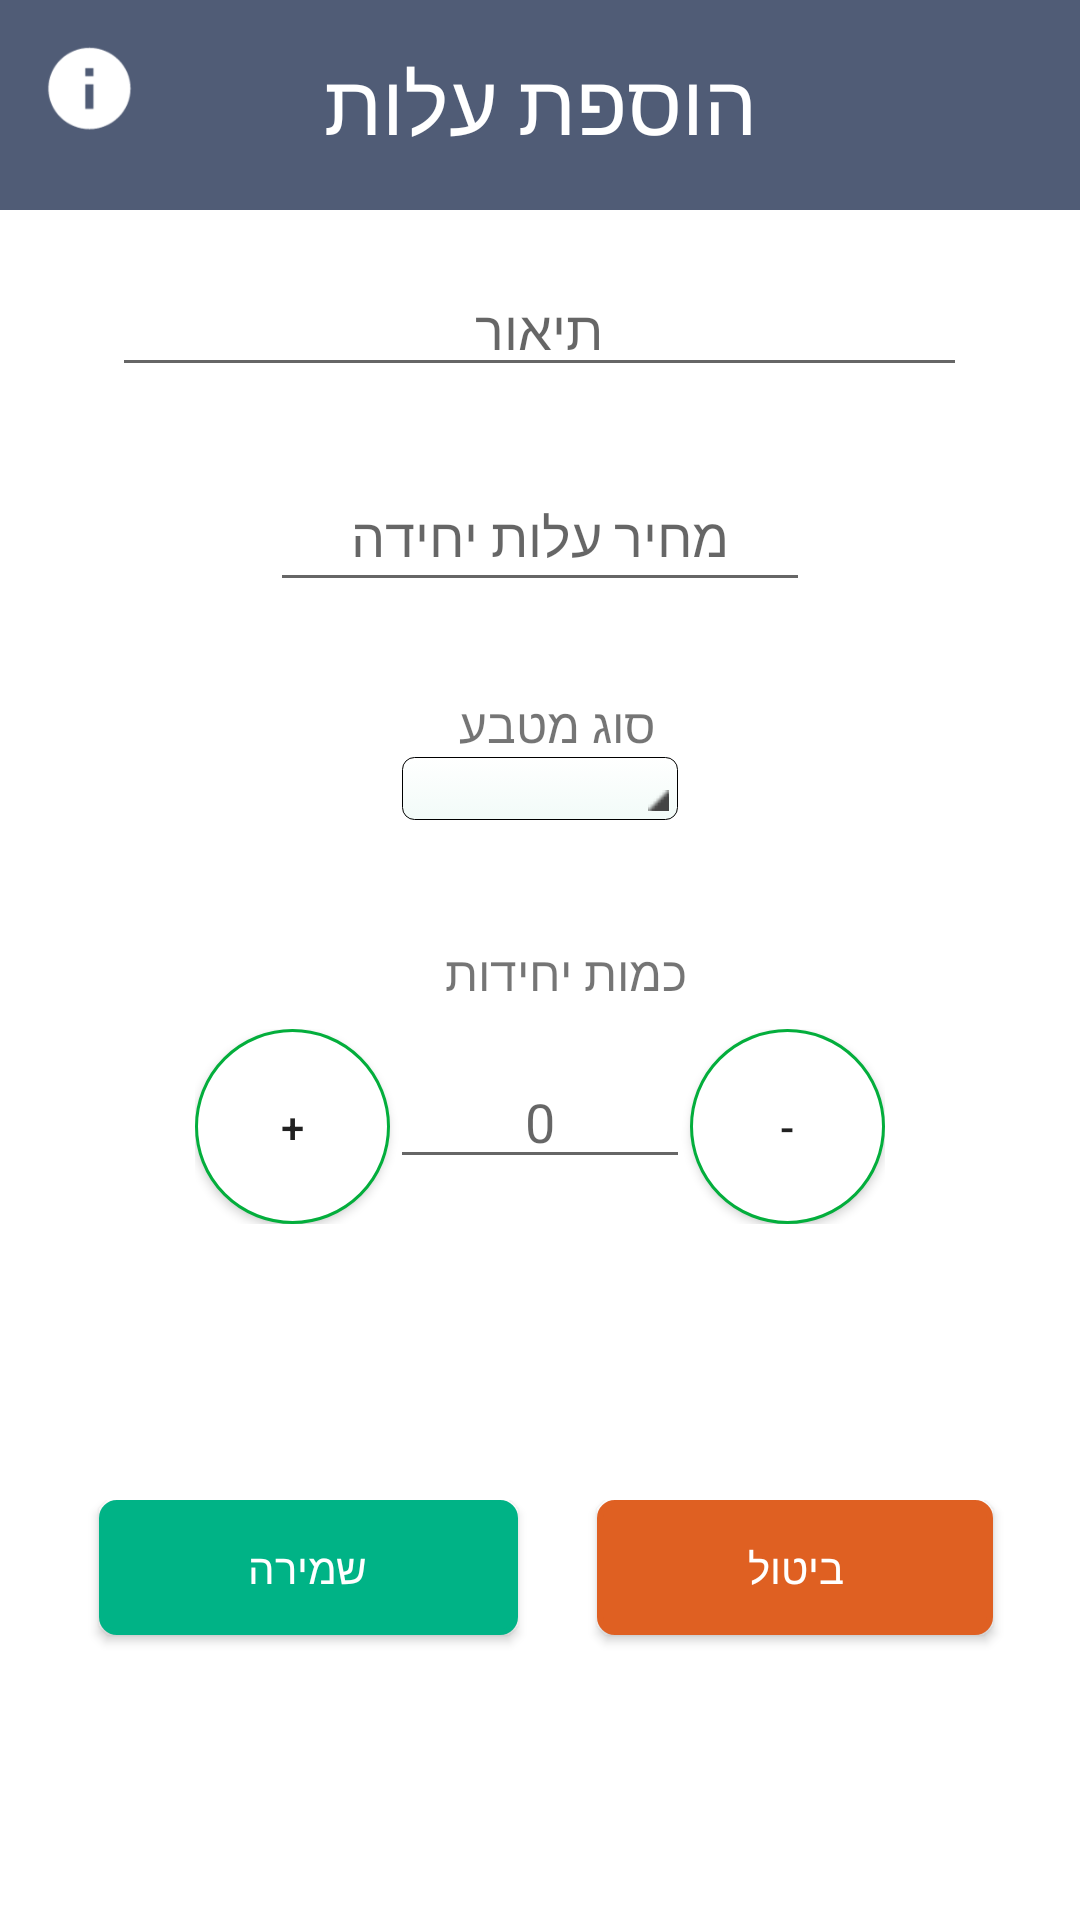

Icon click points for this 1080×1920 phone screenshot, format point (x, y):
information: point (89, 88)
